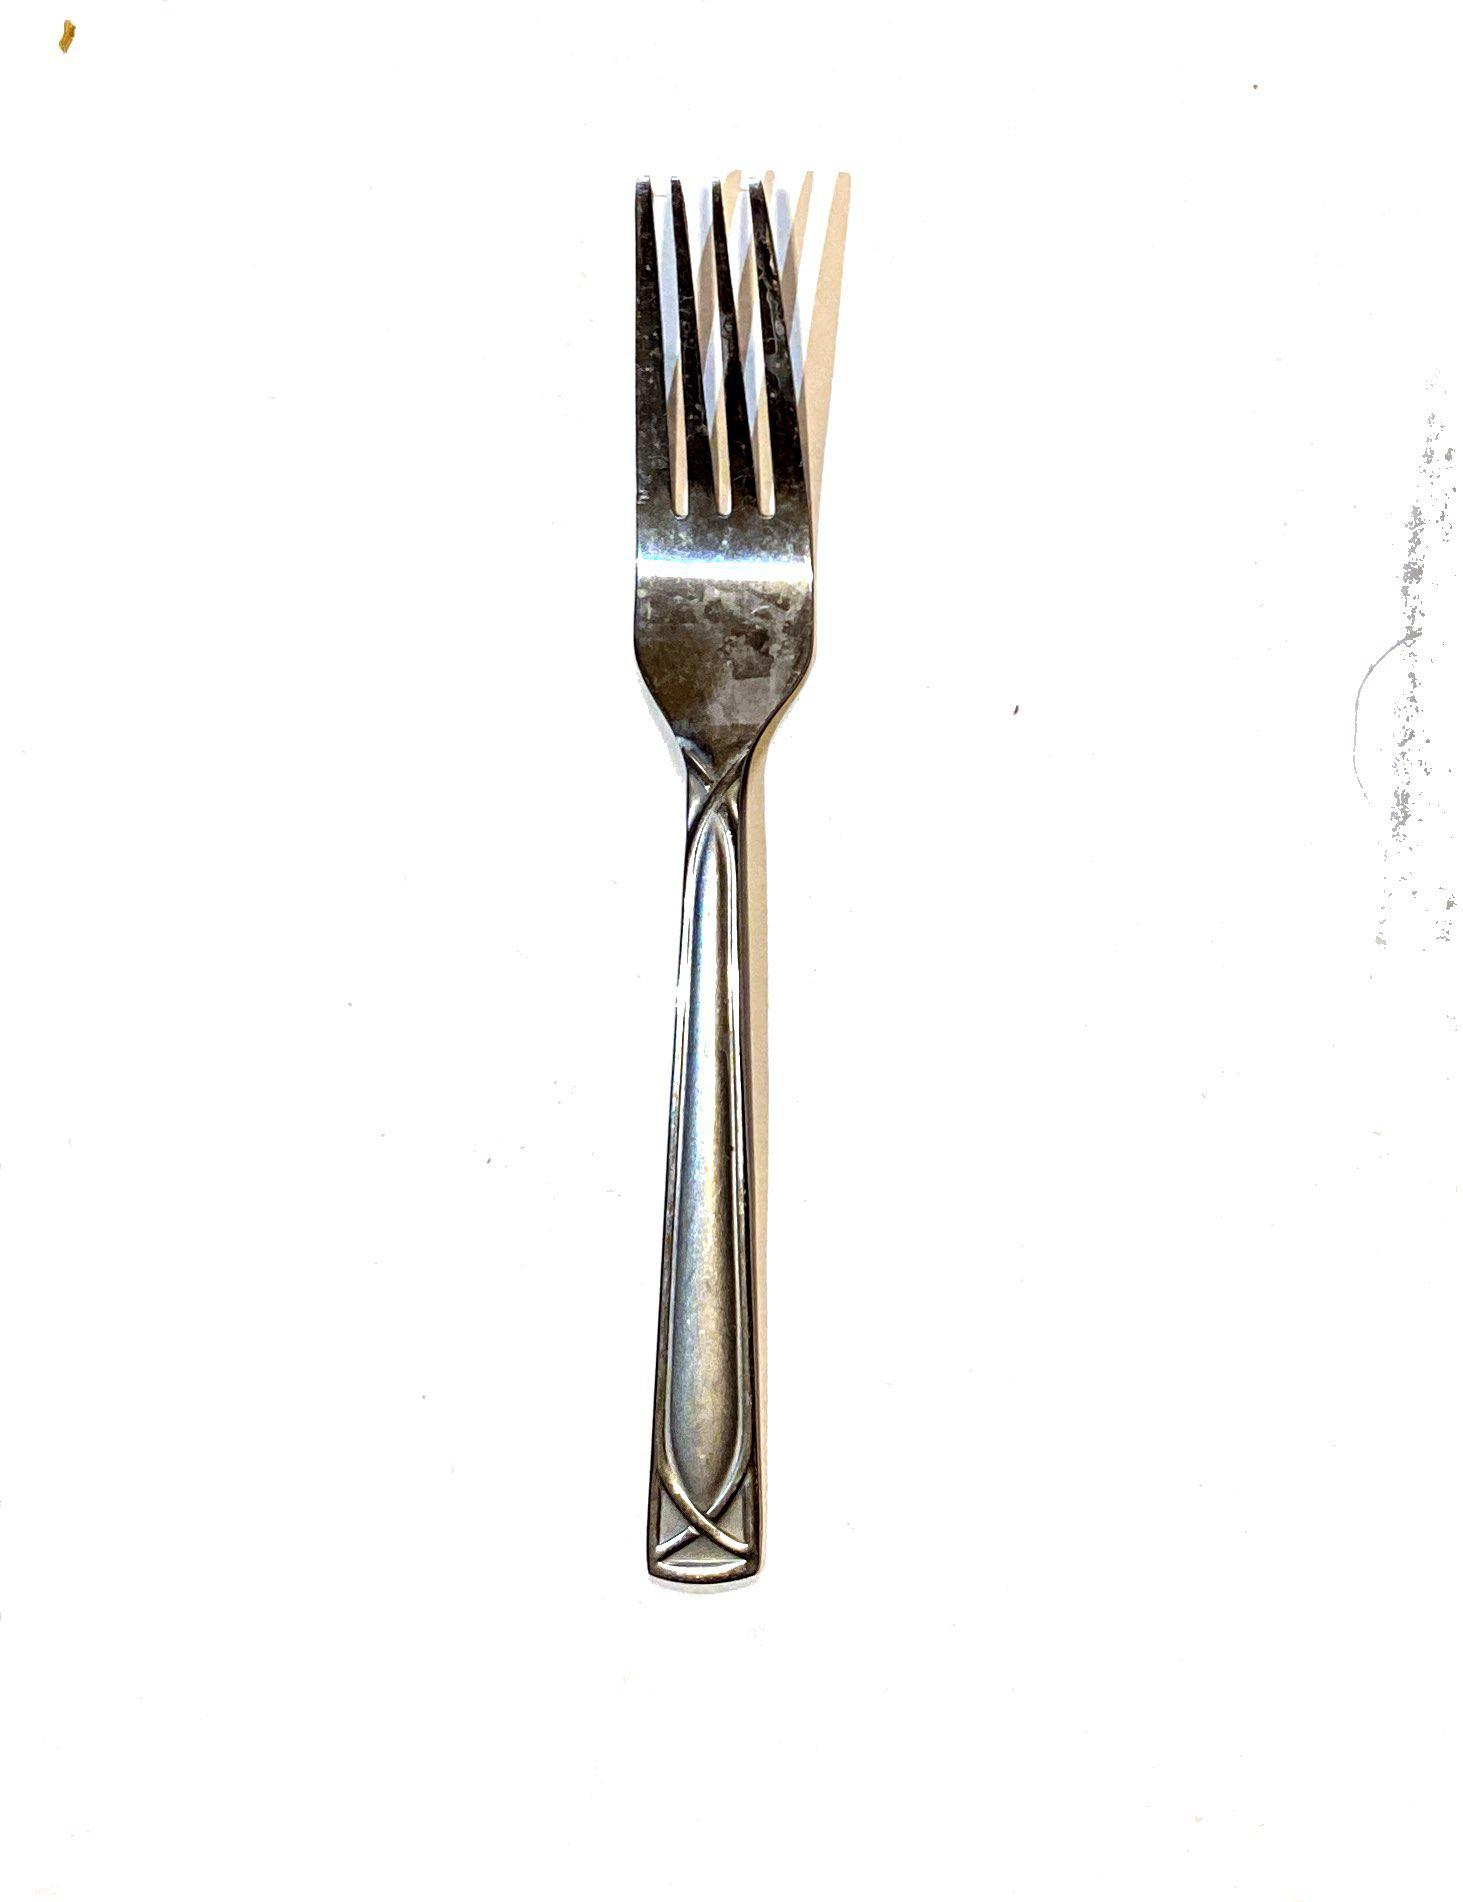Fork: (532, 83, 876, 1655)
